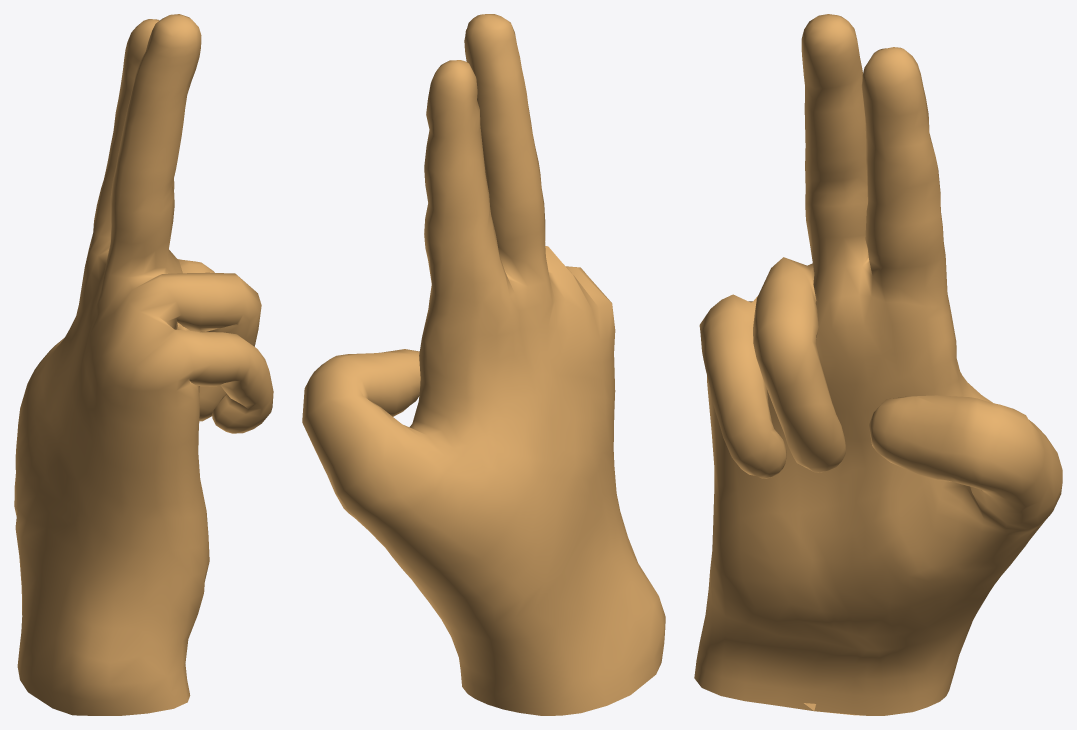
The model's file is LSM_Vocal_U.glb.
3 renders of one model, left to right at view 1: azimuth 30°, elevation 25°; view 2: azimuth 150°, elevation 25°; view 3: azimuth 270°, elevation 25°, orthographic. The views are drawn at different scales.
Parts seen in each view (by area): view 1: hand_L; view 2: hand_L; view 3: hand_L.
Boxes of the visible parts, x1,y1,x2,y2 form: hand_L: (14,14,273,715); hand_L: (302,14,665,715); hand_L: (694,14,1062,715).
Size of the model in its own units: 1.61 by 3.81 by 1.79.
